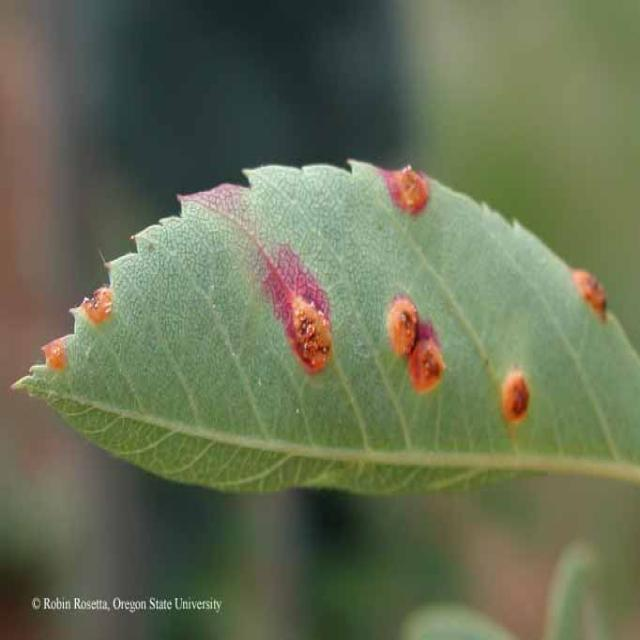Gymnosporangium_Rusts: (11, 154, 634, 495)
